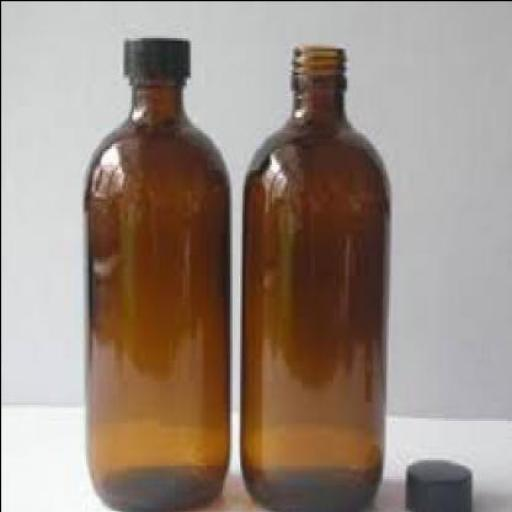glass: (235, 42, 388, 509), (81, 72, 228, 510)
plastic: (403, 454, 468, 510), (119, 34, 185, 74)
